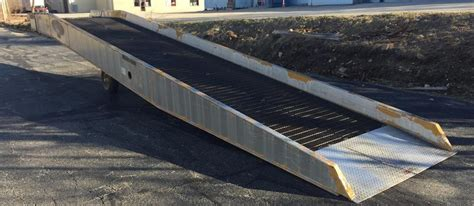Yard Ramp: (31, 9, 454, 201)
